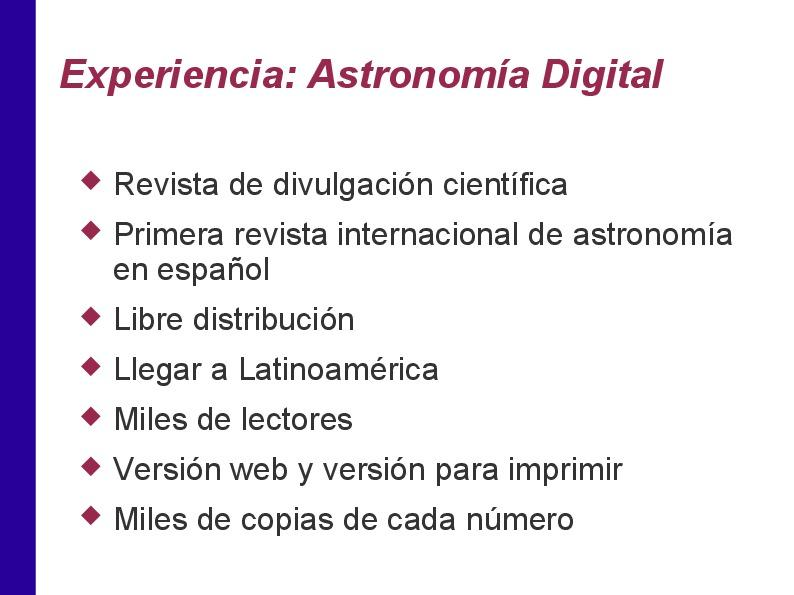paragraph: (68, 149, 775, 556)
title: (48, 44, 687, 108)
